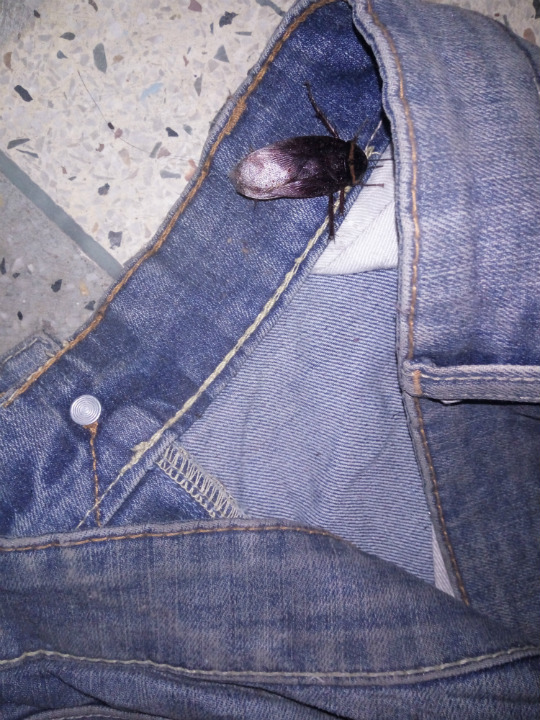cockroach: (183, 124, 405, 238)
